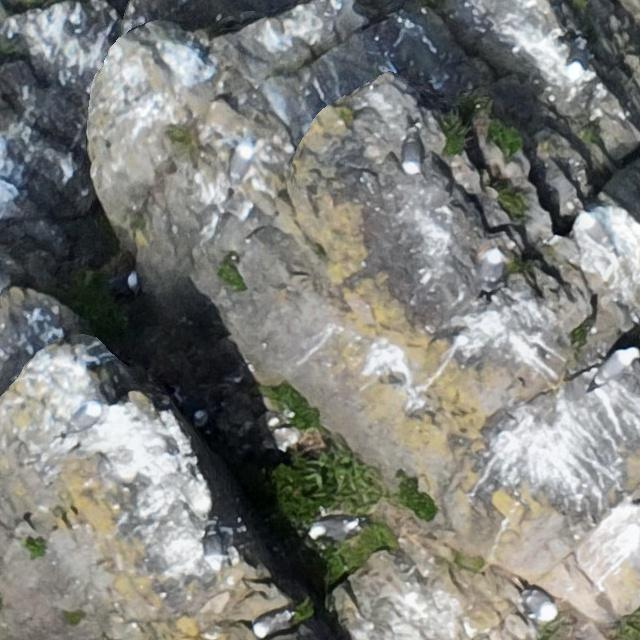umineko: (589, 348, 639, 388), (477, 247, 504, 298), (203, 522, 222, 573), (315, 518, 354, 538), (254, 612, 286, 636), (230, 145, 251, 178), (527, 592, 555, 616), (403, 137, 421, 174), (125, 271, 140, 294)
